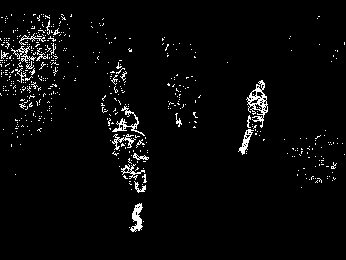person: (111, 111, 149, 233), (241, 78, 267, 154)
